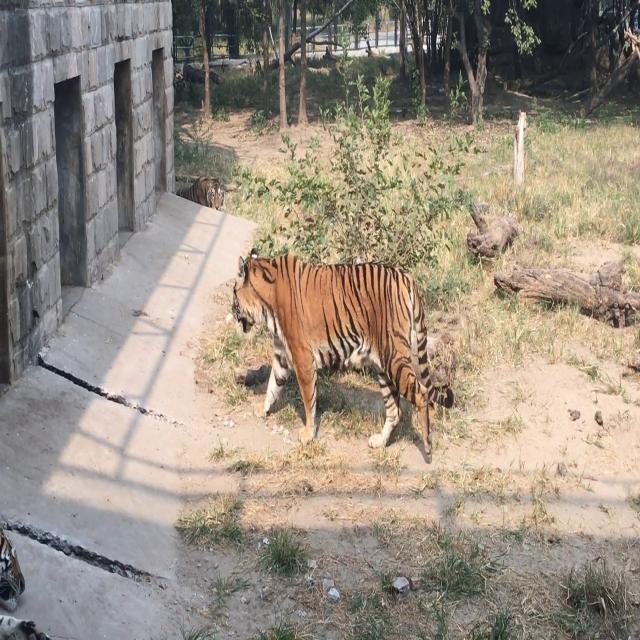Tiger: (216, 225, 484, 462), (172, 158, 230, 222)
